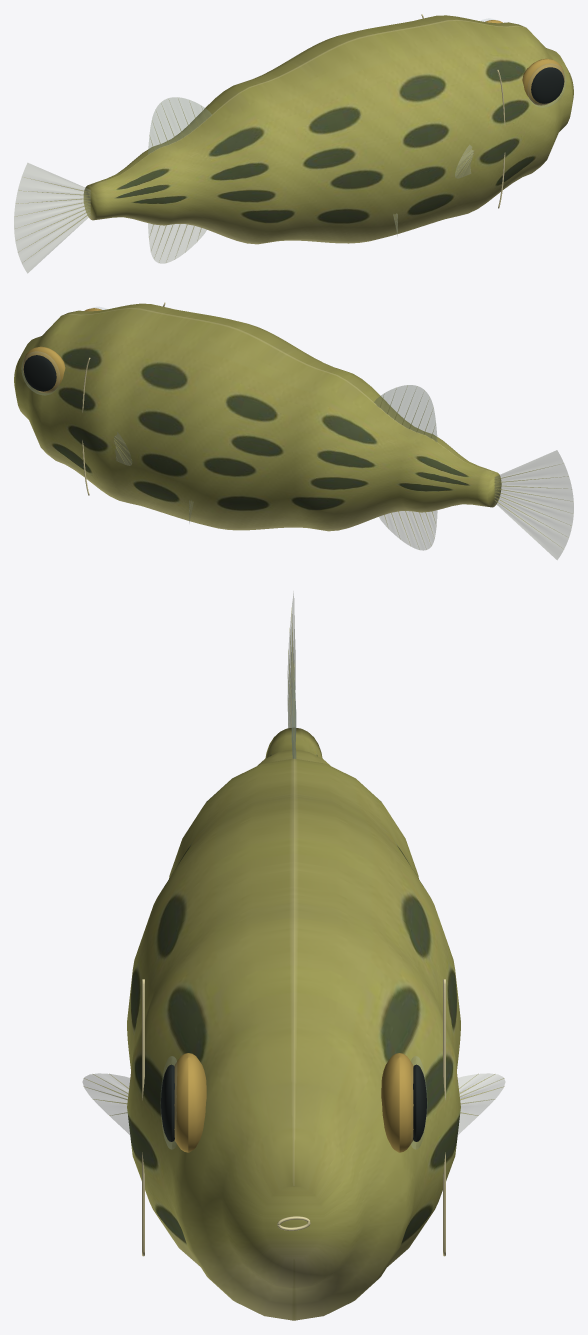
File: dwarfbuffer-mobile.glb
3 views of the same model, one above another, from view 1: azimuth 30°, elevation 25°; view 2: azimuth 150°, elevation 25°; view 3: azimuth 270°, elevation 25° (orthographic). The views are drawn at different scales.
Parts seen in each view (by area): view 1: skin, tail, dorsal, anal, dorsal-ray, eye-pupil--1, eye-iris--1, pectoral-left; view 2: skin, tail, dorsal, anal, dorsal-ray, eye-pupil--1, eye-iris--1, pectoral-left; view 3: skin, eye-iris--1, pectoral-left, eye-pupil--1, operculum.
Boxes of the visible parts, box(x1,y1,x2,y2) form: skin: box(83, 15, 573, 244); tail: box(14, 163, 90, 273); dorsal: box(148, 97, 211, 154); anal: box(148, 223, 206, 263); dorsal-ray: box(15, 99, 473, 261); eye-pupil--1: box(531, 67, 564, 103); eye-iris--1: box(485, 20, 564, 105); pectoral-left: box(455, 145, 473, 178); skin: box(14, 303, 501, 531); tail: box(495, 450, 573, 559); dorsal: box(374, 385, 437, 441); anal: box(379, 510, 437, 550); dorsal-ray: box(114, 386, 570, 547); eye-pupil--1: box(23, 355, 56, 391); eye-iris--1: box(23, 308, 102, 393); pectoral-left: box(113, 432, 131, 465); skin: box(127, 728, 460, 1320); eye-iris--1: box(174, 1053, 413, 1152); pectoral-left: box(82, 1073, 505, 1134); eye-pupil--1: box(161, 1064, 426, 1141); operculum: box(142, 979, 445, 1256).
Size of the model in its own units: 0.5972 by 0.2039 by 0.1977.
11 materials, 1 textured.
